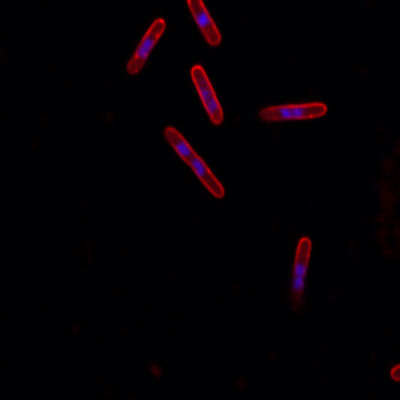Nalidixate: (161, 123, 227, 200), (123, 15, 170, 78), (187, 63, 224, 126), (255, 101, 329, 124)
Oblique: (289, 235, 314, 306)
